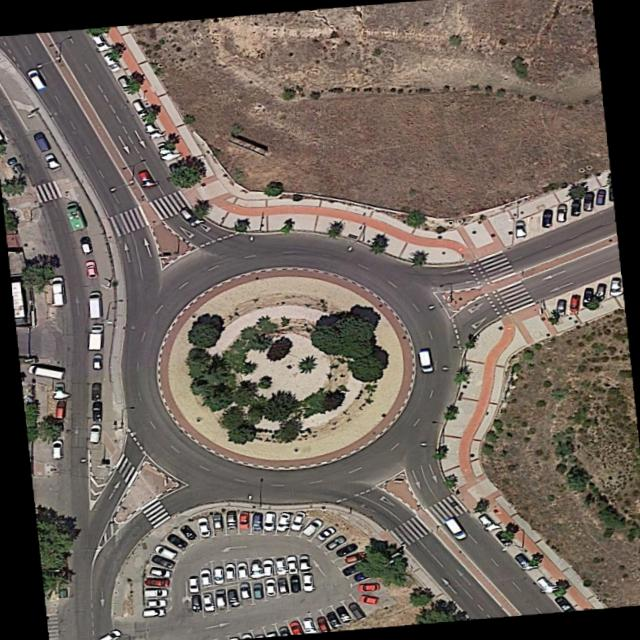large-vehicle: (26, 365, 64, 380), (51, 275, 64, 305), (88, 325, 102, 350), (88, 292, 100, 318)
small-vehicle: (63, 201, 85, 232), (444, 517, 467, 539), (25, 69, 46, 92), (533, 574, 555, 594), (300, 518, 323, 536), (164, 532, 189, 548), (314, 524, 336, 542), (31, 131, 50, 151), (154, 139, 173, 159), (152, 543, 177, 558), (333, 542, 358, 557), (274, 510, 291, 531), (324, 533, 344, 550), (97, 627, 123, 640), (137, 170, 155, 188), (90, 34, 108, 52), (102, 54, 120, 72), (289, 511, 306, 530), (324, 612, 343, 629), (151, 555, 175, 568), (417, 350, 431, 372), (346, 601, 364, 618), (494, 530, 513, 546), (196, 517, 212, 536), (43, 153, 60, 170), (334, 606, 352, 622), (198, 567, 212, 587), (341, 562, 361, 576), (147, 567, 172, 578), (117, 76, 134, 92), (554, 596, 572, 611), (178, 524, 196, 539), (314, 614, 329, 632), (213, 588, 226, 608), (263, 578, 276, 597), (512, 554, 529, 568), (274, 578, 288, 595), (238, 582, 251, 600), (288, 574, 301, 592), (297, 554, 310, 572), (52, 380, 65, 398), (224, 511, 237, 529), (285, 555, 297, 574), (249, 559, 261, 578), (344, 552, 364, 563), (85, 261, 97, 279), (144, 577, 168, 586), (201, 593, 213, 611), (211, 512, 223, 530), (262, 512, 274, 530), (131, 101, 145, 116), (300, 617, 314, 632), (302, 572, 313, 591), (143, 588, 166, 597), (594, 282, 606, 299), (359, 594, 379, 604), (89, 425, 100, 443), (52, 440, 63, 458), (262, 558, 273, 576), (237, 561, 248, 579), (554, 299, 566, 315), (211, 567, 223, 583), (190, 594, 202, 610), (55, 400, 65, 419), (224, 562, 234, 581), (252, 582, 263, 599), (356, 583, 379, 591), (180, 208, 194, 221), (143, 123, 157, 136), (80, 240, 92, 255), (90, 382, 100, 400), (92, 402, 102, 420), (515, 221, 525, 239), (581, 289, 592, 305), (570, 199, 580, 216), (556, 205, 566, 222), (274, 557, 284, 574), (188, 575, 198, 592), (239, 511, 249, 528), (250, 513, 260, 530), (142, 608, 163, 616), (541, 210, 550, 228), (351, 572, 369, 581), (145, 598, 165, 606), (569, 295, 579, 311), (583, 193, 592, 210), (228, 587, 237, 604), (609, 280, 619, 295), (478, 515, 491, 526), (595, 190, 605, 204), (91, 354, 100, 369)
